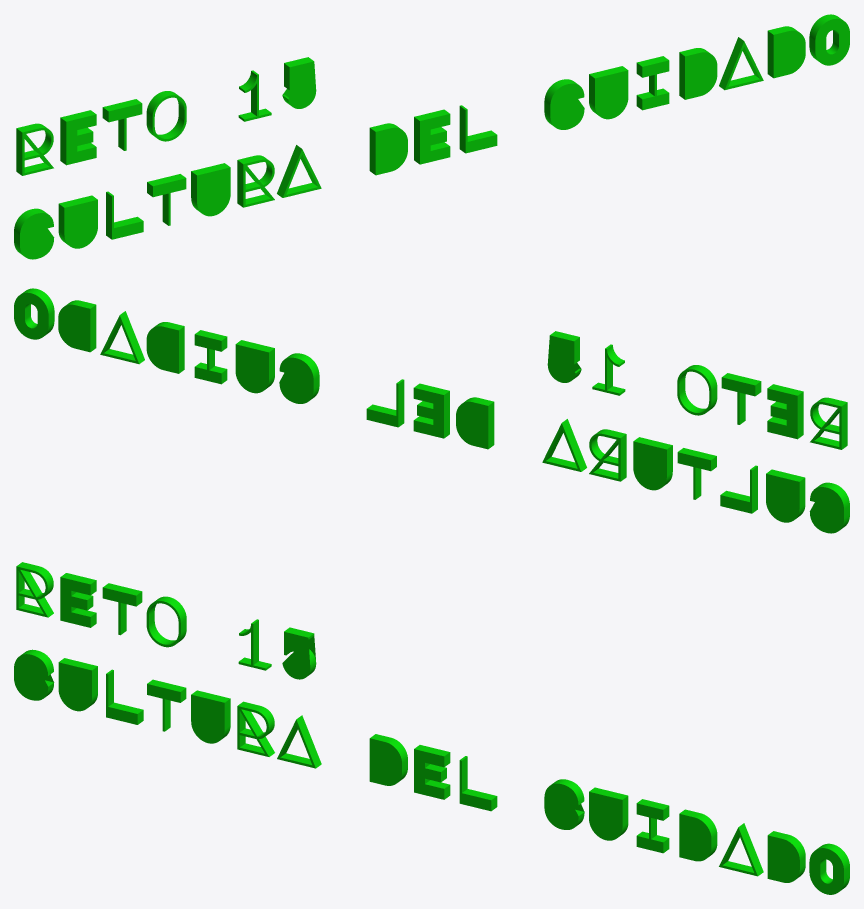
File: RETO15.fbx
The picture shows the model from 3 angles, top to bottom: view 1: azimuth 30°, elevation 25°; view 2: azimuth 150°, elevation 25°; view 3: azimuth 330°, elevation 25°; orthographic projection.
Parts seen in each view (by area): view 1: typeMesh15; view 2: typeMesh15; view 3: typeMesh15.
Boxes of the visible parts, x1,y1,x2,y2 form: typeMesh15: [14, 14, 849, 259]; typeMesh15: [14, 288, 849, 533]; typeMesh15: [14, 562, 849, 894].
Bounding box in the file's own units: 203 × 30.66 × 2.5.
